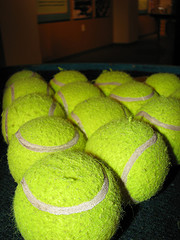tennis ball: (12, 149, 124, 240), (81, 116, 171, 206), (5, 115, 91, 187), (2, 93, 67, 147), (134, 95, 180, 163), (65, 95, 137, 137), (106, 80, 162, 112), (51, 80, 106, 109), (2, 78, 50, 110), (141, 71, 180, 101), (94, 69, 135, 97), (7, 66, 46, 89), (50, 69, 90, 89)
